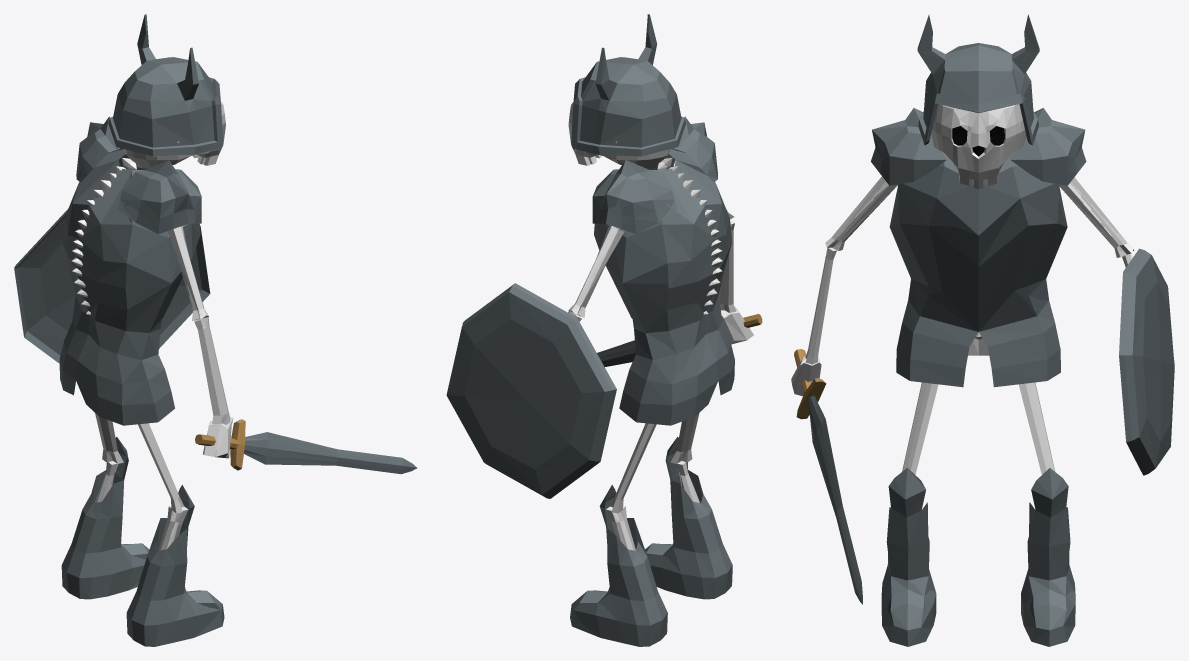
Rendered from SKELETONWARRIOR_BASE_proto.obj.
The picture shows the model from 3 angles, left to right: view 1: azimuth 30°, elevation 25°; view 2: azimuth 150°, elevation 25°; view 3: azimuth 270°, elevation 25°; orthographic projection. The views are drawn at different scales.
Visible parts, largest first — view 1: Cube.003_Cube.005; view 2: Cube.003_Cube.005; view 3: Cube.003_Cube.005.
Part boxes in pixels (x1=…): Cube.003_Cube.005: x1=14, y1=14, x2=417, y2=646; Cube.003_Cube.005: x1=446, y1=14, x2=762, y2=646; Cube.003_Cube.005: x1=791, y1=14, x2=1174, y2=646.
Size of the model in its own units: 3.95 by 7.33 by 4.1.
Materials: 1 (1 with a texture image).
